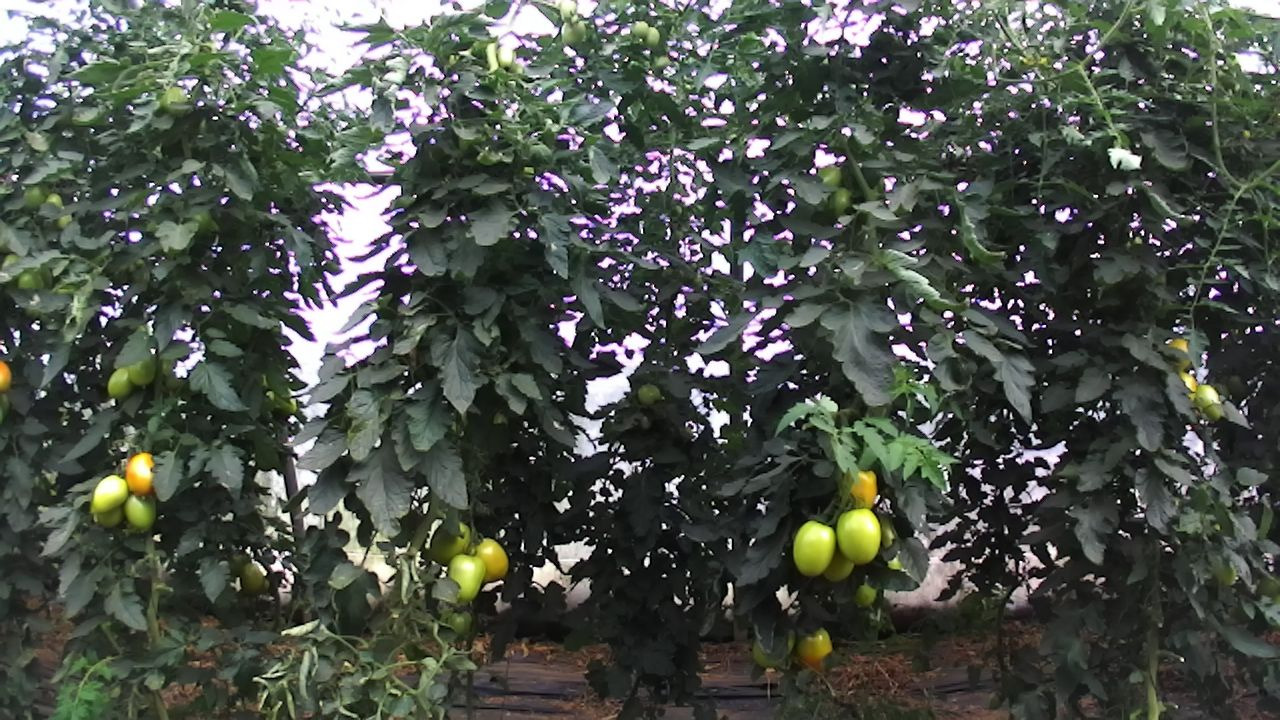tomato: (831, 505, 883, 568), (791, 517, 838, 579), (443, 549, 487, 602), (471, 535, 510, 583), (88, 472, 130, 515), (796, 625, 834, 671), (122, 489, 158, 533), (125, 451, 157, 495), (104, 362, 136, 400), (126, 353, 157, 390), (237, 559, 265, 598), (634, 382, 663, 407)
